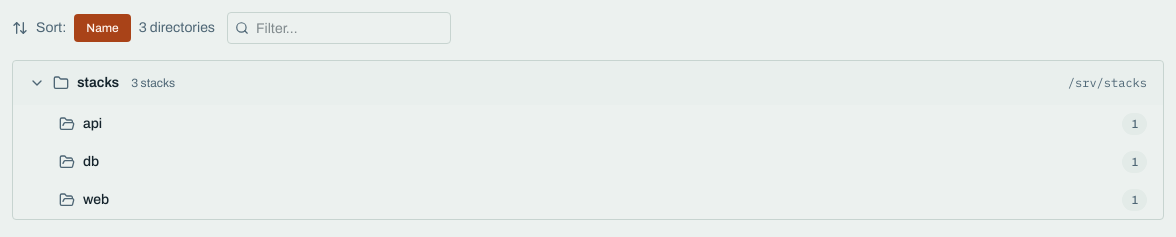
Test: DirectoriesTab — filtering › filters directories by name
In the field with placeholder "Filter…": [339, 28] box [227, 12, 451, 44], type "web"
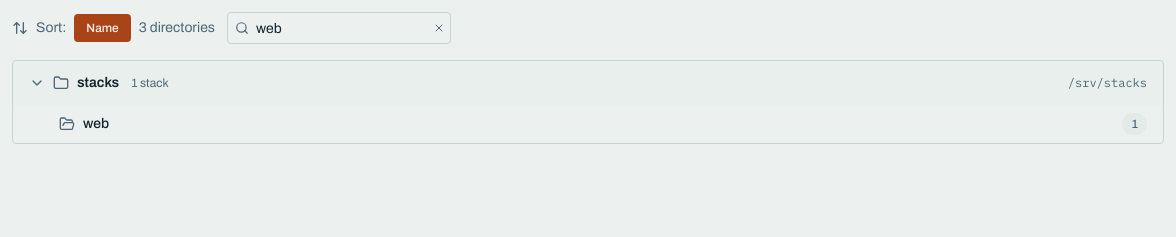
Expected: the text "web" is shown, [83, 116, 109, 131]
Expected: the text "api" is gone
